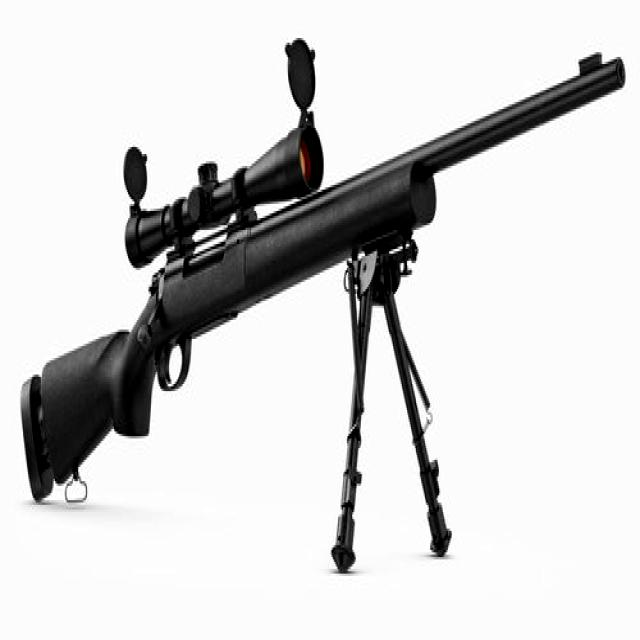rifle: (10, 29, 627, 561)
